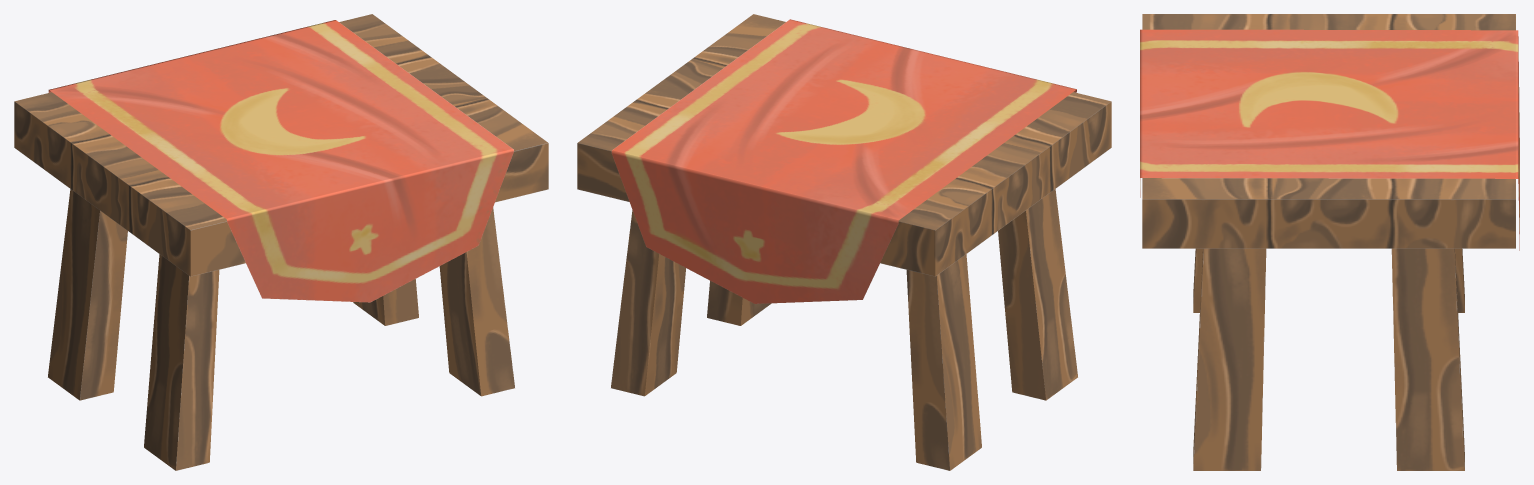
Rendered from M_MesaPequeña.fbx.
3 views of the same model, side by side, from view 1: azimuth 30°, elevation 25°; view 2: azimuth 150°, elevation 25°; view 3: azimuth 270°, elevation 25° (orthographic). The views are drawn at different scales.
Visible parts, largest first — view 1: polySurface19, polySurface18; view 2: polySurface19, polySurface18; view 3: polySurface18, polySurface19.
Boxes of the visible parts, box(x1,y1,x2,y2) form: polySurface19: box(48, 20, 513, 302); polySurface18: box(14, 14, 548, 470); polySurface19: box(611, 19, 1076, 303); polySurface18: box(577, 14, 1111, 470); polySurface18: box(1142, 14, 1515, 470); polySurface19: box(1140, 29, 1519, 250).
Size of the model in its own units: 9.6 by 6.75 by 8.32.
